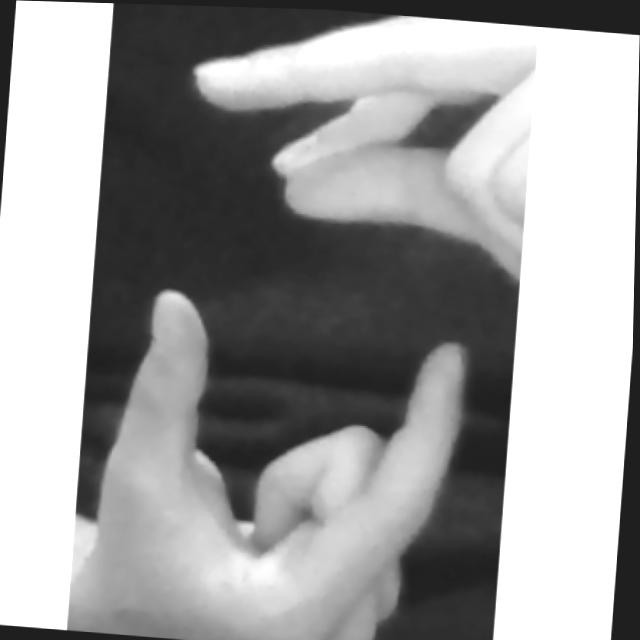U--: (87, 3, 541, 640)
